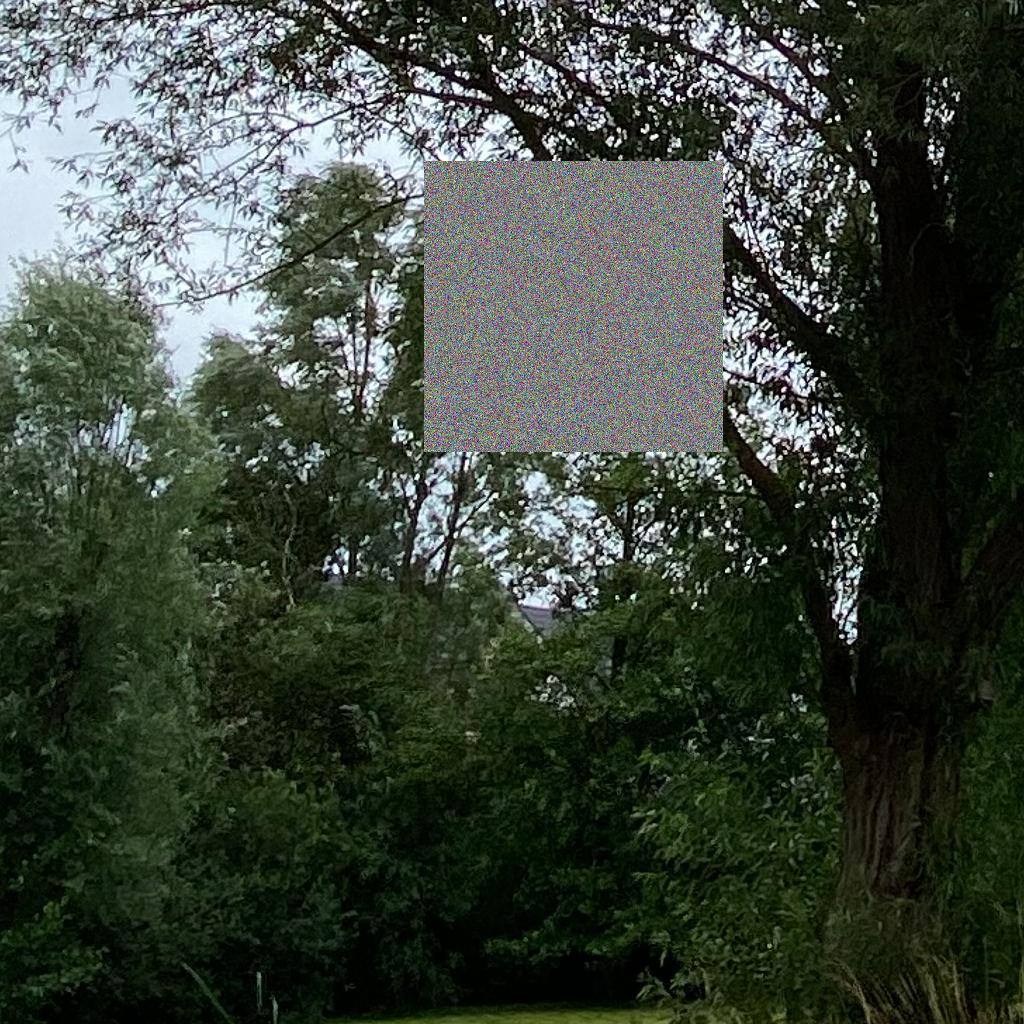tree: (1, 1, 1023, 1023), (182, 162, 573, 663), (1, 235, 233, 945)
